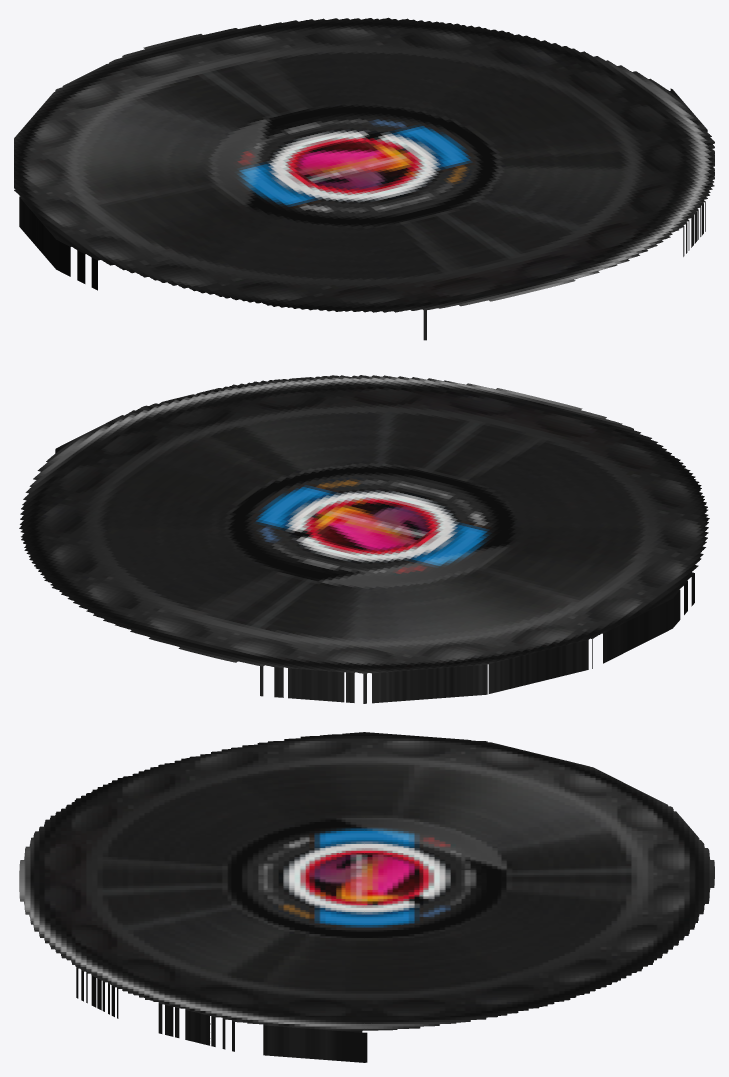
The model's file is circulo.fbx.
The picture shows the model from 3 angles, top to bottom: view 1: azimuth 30°, elevation 25°; view 2: azimuth 150°, elevation 25°; view 3: azimuth 270°, elevation 25°; orthographic projection.
Visible parts, largest first — view 1: Cylinder001; view 2: Cylinder001; view 3: Cylinder001.
Boxes of the visible parts, box(x1,y1,x2,y2) form: Cylinder001: box(14, 17, 714, 340); Cylinder001: box(19, 375, 709, 703); Cylinder001: box(19, 732, 714, 1062).
Bounding box in the file's own units: 89.65 × 88.29 × 4.17.
1 material, 1 textured.
